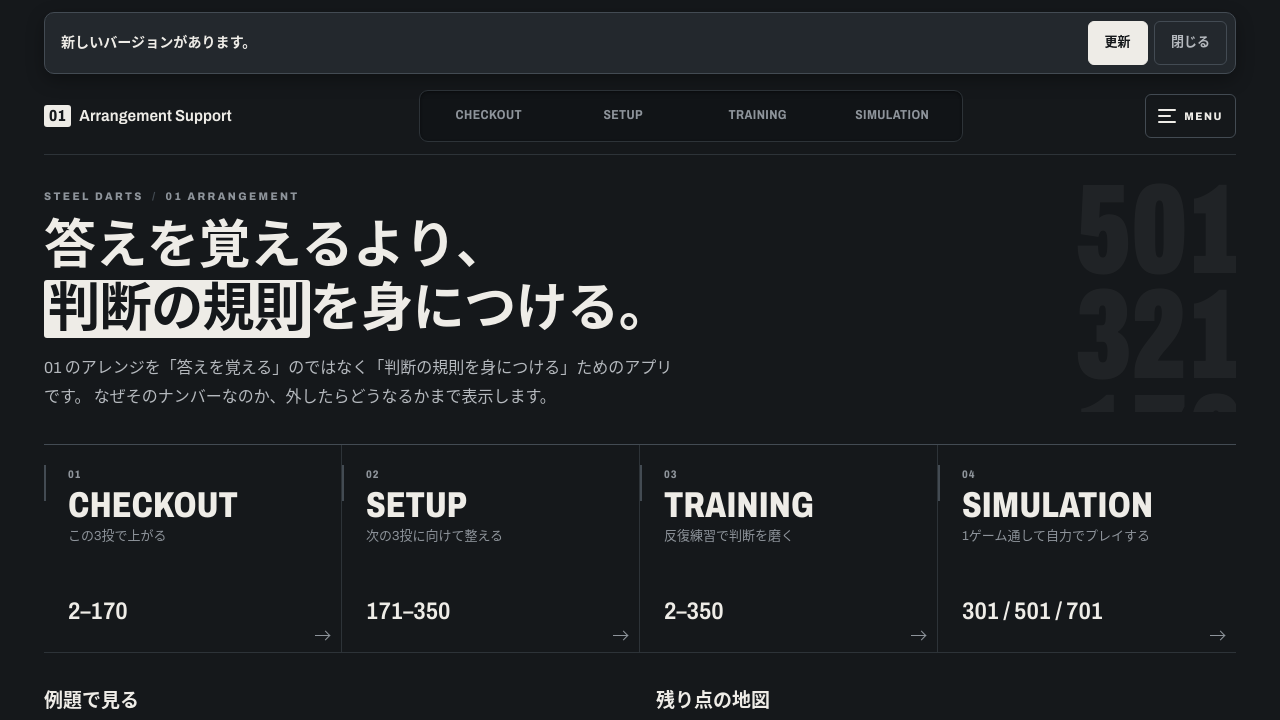
it: 更新バナー › 閉じるとお知らせは消え、更新は適用しない
Click the button with test id "update-banner-dismiss" at (1190, 43), box [1154,21,1227,65]
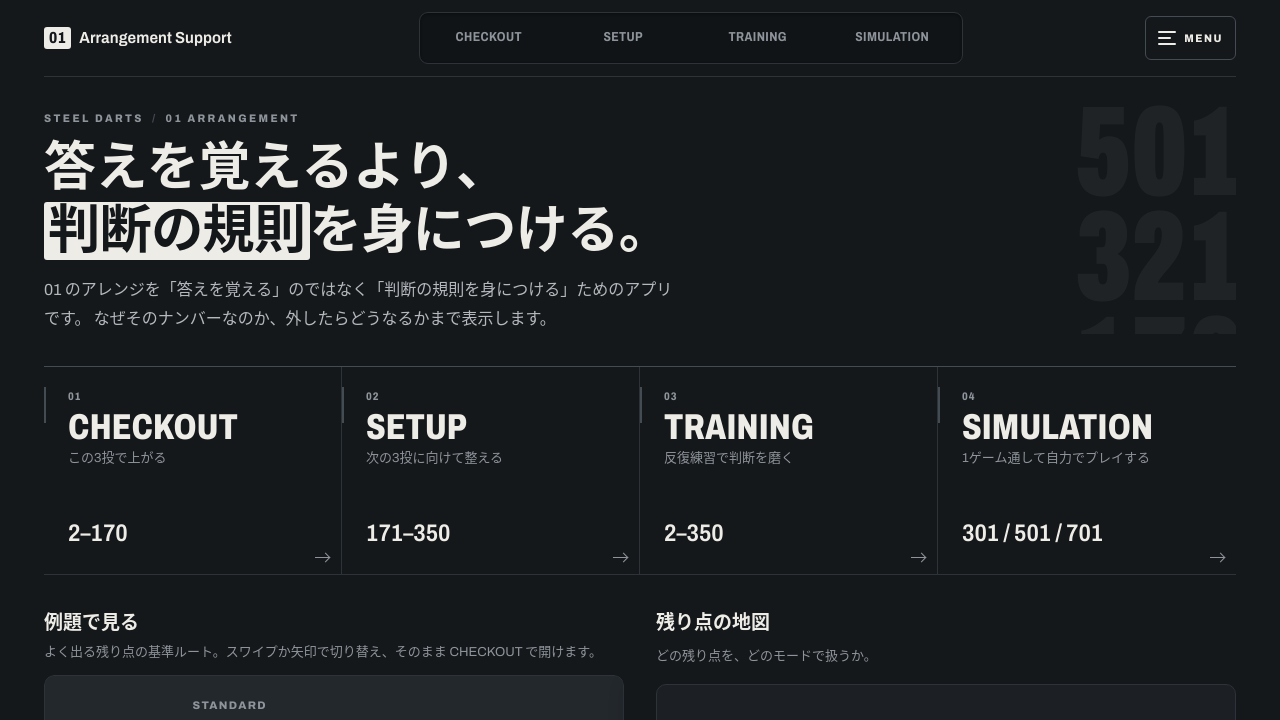
Now the message with test id "update-banner" is gone
